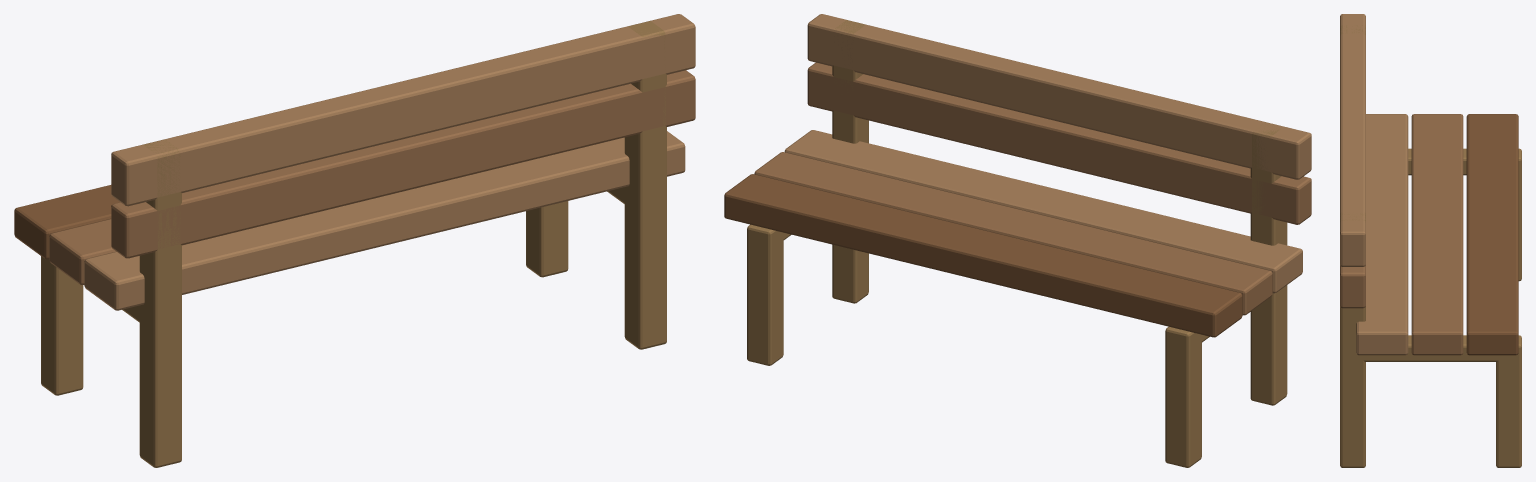
File: plaza_bench.glb
3 renders of one model, left to right at view 1: azimuth 30°, elevation 25°; view 2: azimuth 150°, elevation 25°; view 3: azimuth 270°, elevation 25°, orthographic. The views are drawn at different scales.
Parts seen in each view (by area): view 1: Low_back_slat_1, Low_back_slat_0, Seat_slat_2, Rear_bronze_upright, Rear_bronze_upright.001, Front_bronze_leg, Seat_slat_0, Front_bronze_leg.001, Seat_slat_1; view 2: Seat_slat_0, Low_back_slat_1, Low_back_slat_0, Seat_slat_1, Seat_slat_2, Rear_bronze_upright, Front_bronze_leg, Front_bronze_leg.001, Rear_bronze_upright.001; view 3: Seat_slat_0, Seat_slat_1, Seat_slat_2, Low_back_slat_1, Rear_bronze_upright.001, Front_bronze_leg.001, Seat_bronze_support.001, Low_back_slat_0, Front_bronze_leg, Seat_bronze_support.
Part boxes in pixels (x1,y1,x2,y2): Low_back_slat_1: (111,14,695,206); Low_back_slat_0: (111,70,695,258); Seat_slat_2: (84,131,685,310); Rear_bronze_upright: (139,139,181,467); Rear_bronze_upright.001: (624,21,666,349); Front_bronze_leg: (41,256,83,395); Seat_slat_0: (14,185,119,259); Front_bronze_leg.001: (526,201,568,277); Seat_slat_1: (49,219,116,284); Seat_slat_0: (724,174,1242,337); Low_back_slat_1: (807,14,1311,179); Low_back_slat_0: (807,62,1311,224); Seat_slat_1: (754,152,1272,315); Seat_slat_2: (784,130,1302,293); Rear_bronze_upright: (1250,122,1287,405); Front_bronze_leg: (1165,326,1201,467); Front_bronze_leg.001: (747,225,783,365); Rear_bronze_upright.001: (832,20,868,303); Seat_slat_0: (1466,114,1518,355); Seat_slat_1: (1411,114,1463,355); Seat_slat_2: (1356,114,1408,355); Low_back_slat_1: (1340,14,1365,266); Rear_bronze_upright.001: (1340,212,1365,467); Front_bronze_leg.001: (1496,335,1521,467); Seat_bronze_support.001: (1356,335,1521,361); Low_back_slat_0: (1340,265,1365,308); Front_bronze_leg: (1518,148,1521,281); Seat_bronze_support: (1408,148,1520,175).
Bounding box in the file's own units: 1.6 × 0.84 × 0.56.
